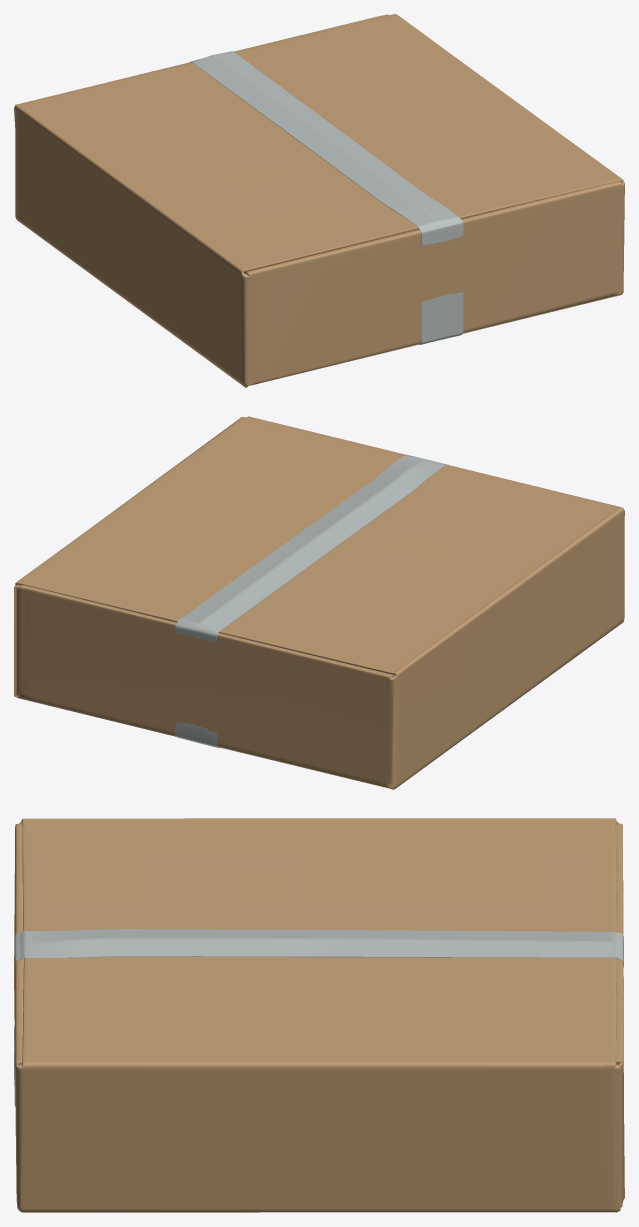
Rendered from box_flat_a06.glb.
3 renders of one model, top to bottom at view 1: azimuth 30°, elevation 25°; view 2: azimuth 150°, elevation 25°; view 3: azimuth 270°, elevation 25°, orthographic. The views are drawn at different scales.
Bounding box in the file's own units: 0.2795 × 0.0856 × 0.295.
